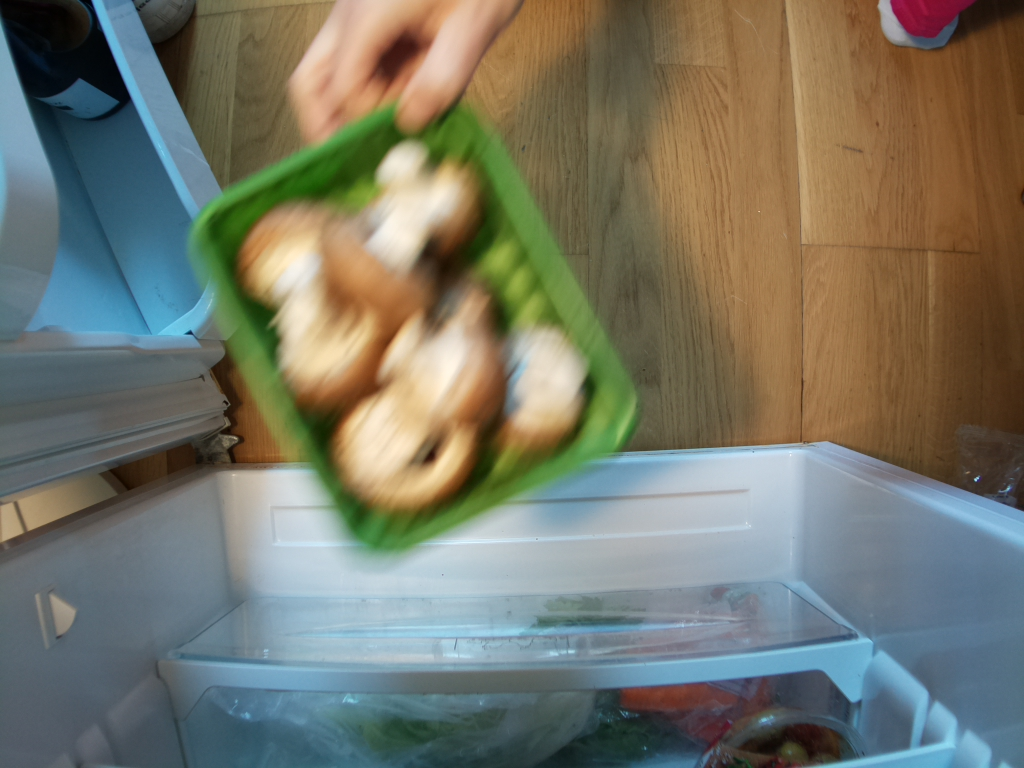mushrooms: (192, 90, 627, 556)
